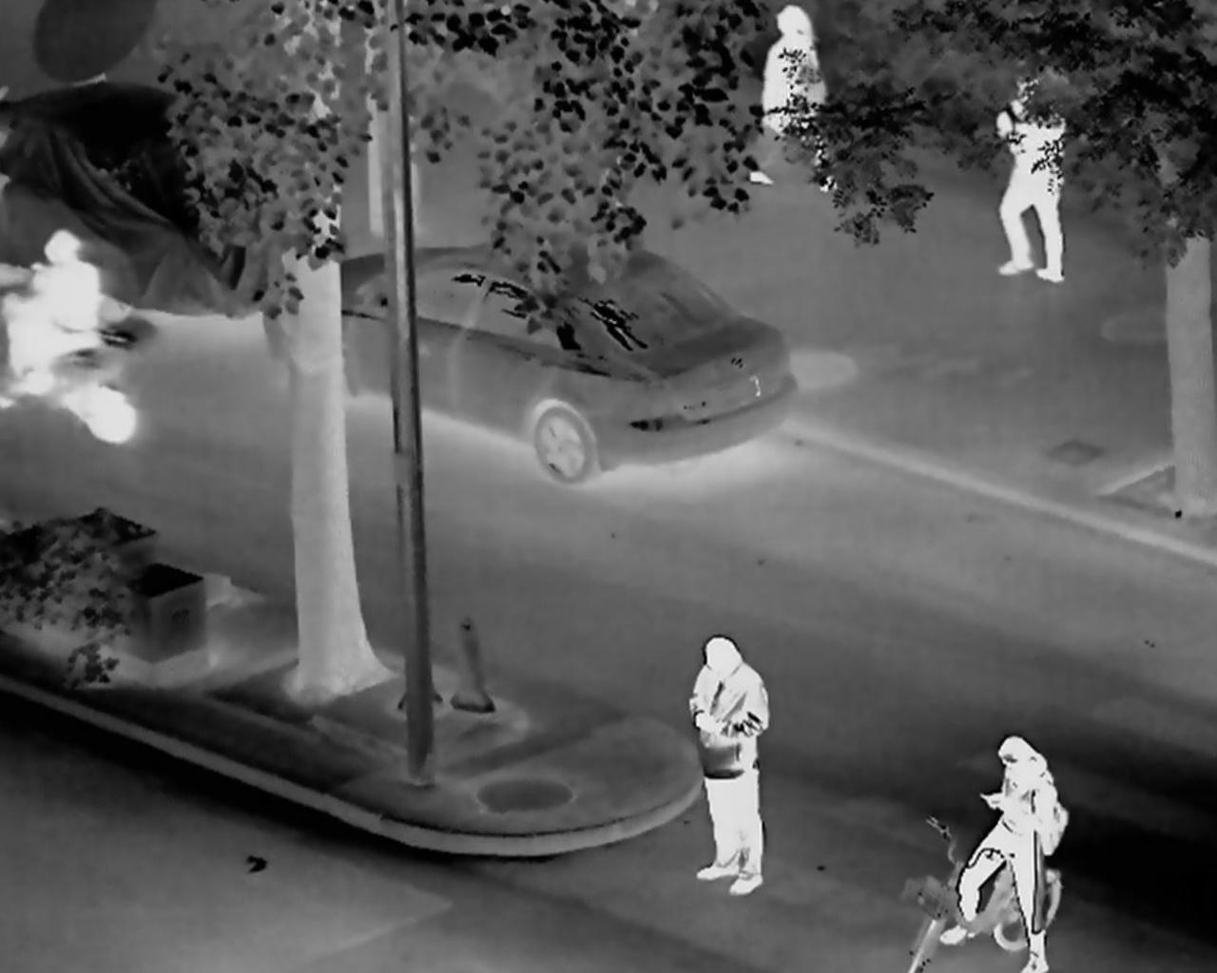person: (940, 735, 1063, 973), (686, 635, 772, 899), (742, 6, 848, 196), (989, 70, 1068, 284), (5, 227, 103, 398)
